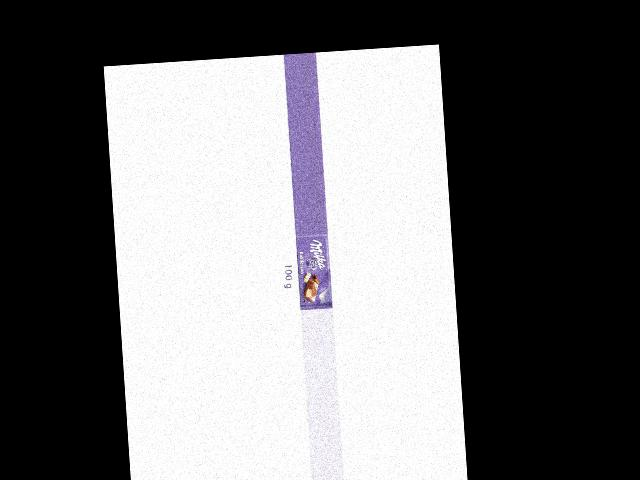chocolate: (290, 231, 333, 311)
